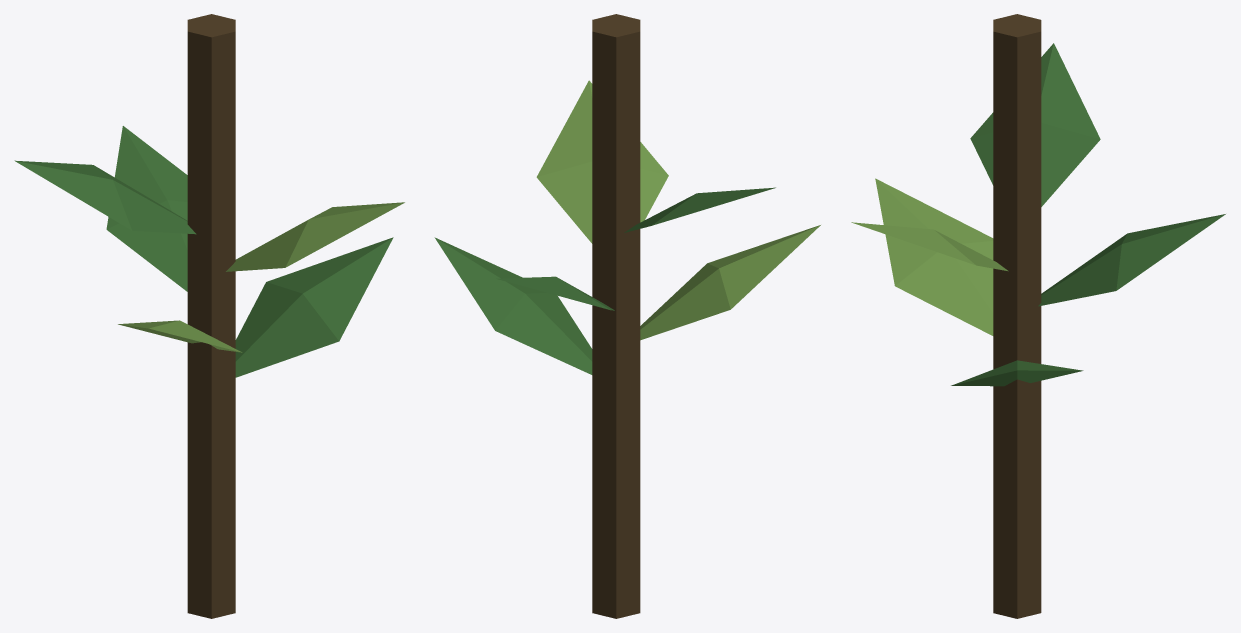
File: RubberPlant2.gltf
The picture shows the model from 3 angles, left to right: view 1: azimuth 30°, elevation 25°; view 2: azimuth 150°, elevation 25°; view 3: azimuth 270°, elevation 25°; orthographic projection.
Visible parts, largest first — view 1: RubberPlant2; view 2: RubberPlant2; view 3: RubberPlant2.
Boxes of the visible parts, box(x1,y1,x2,y2) form: RubberPlant2: box(14, 14, 404, 618); RubberPlant2: box(434, 14, 820, 618); RubberPlant2: box(851, 14, 1225, 618).
Size of the model in its own units: 0.3771 by 0.58 by 0.3401.
